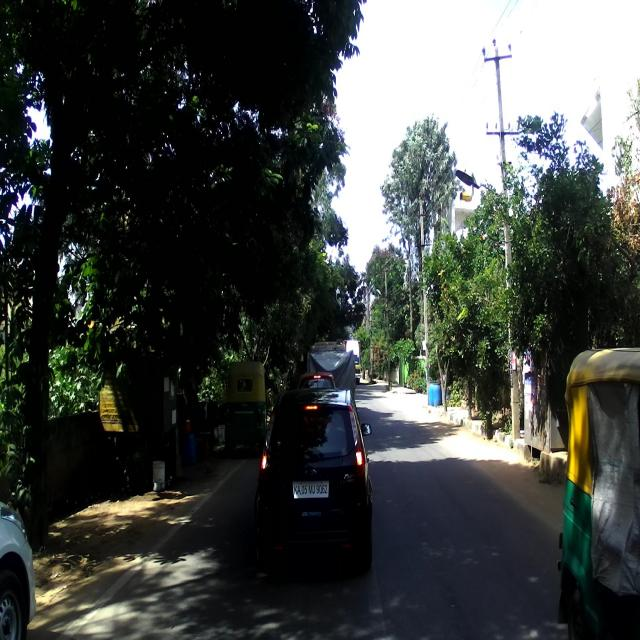autorickshaw: (556, 345, 638, 639)
car: (254, 377, 372, 569)
